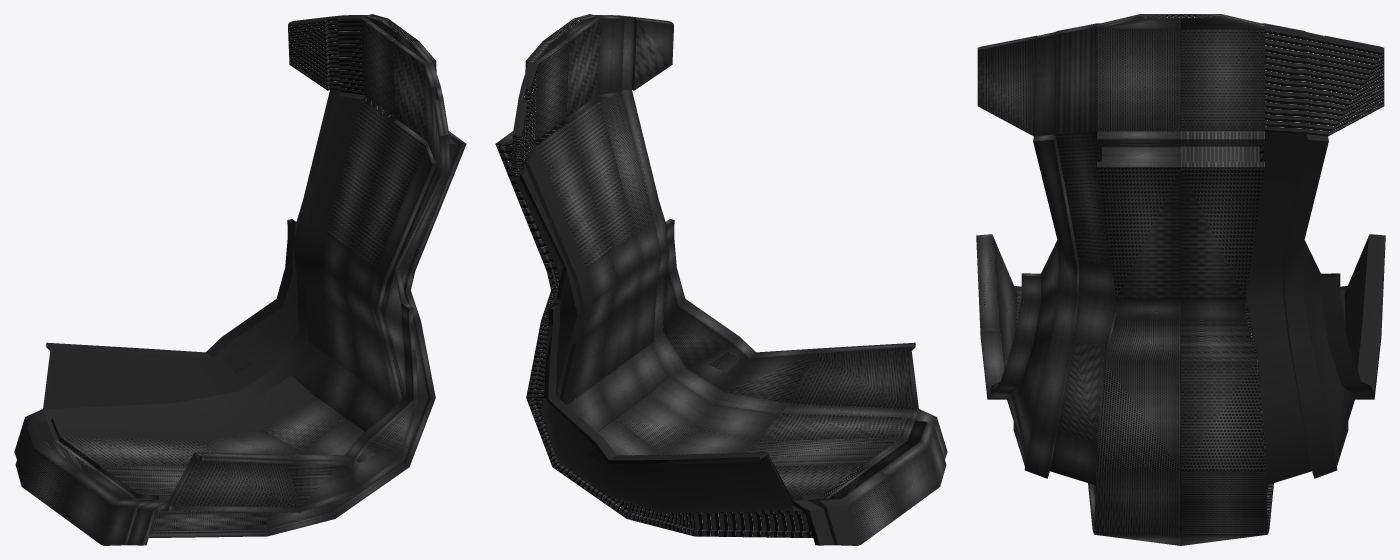
File: ChairV2.fbx
3 renders of one model, left to right at view 1: azimuth 30°, elevation 25°; view 2: azimuth 150°, elevation 25°; view 3: azimuth 270°, elevation 25°, orthographic. The views are drawn at different scales.
Parts seen in each view (by area): view 1: Chair; view 2: Chair; view 3: Chair.
Boxes of the visible parts, left/top/right/bottom form: Chair: left=14, top=14, right=466, bottom=545; Chair: left=495, top=14, right=947, bottom=545; Chair: left=976, top=14, right=1385, bottom=545.
Bounding box in the file's own units: 152 × 174 × 110.
